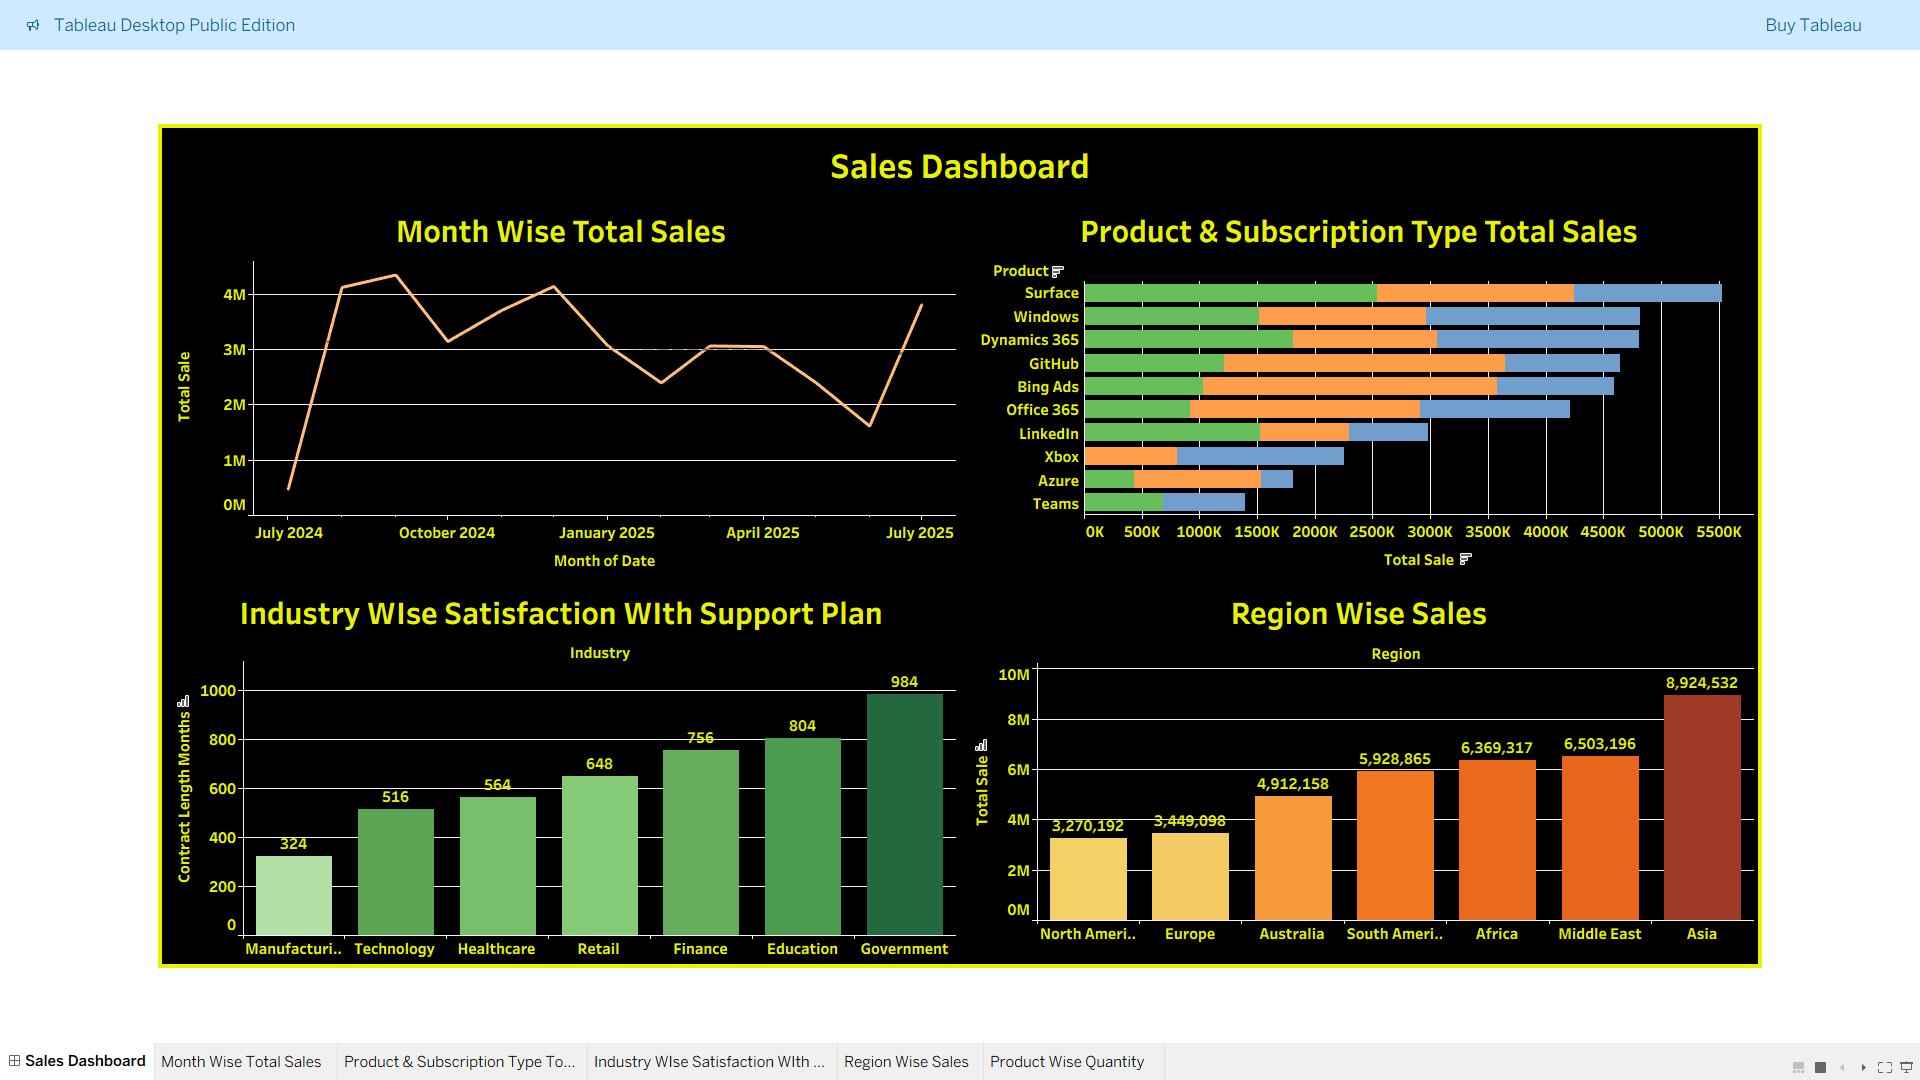

This screenshot's page, from the dashboard's own definition file:
{"tool":"tableau","page":{"name":"Sales Dashboard","canvas":[1000,1000],"units":"permille","ordinal":0},"visuals":[{"type":"text","box":[7.4,15,985.2,85.1]},{"type":"worksheet","title":"Month Wise Total Sales","mark":"Automatic","rows":["TotalSale"],"cols":["Date"],"box":[7.4,100,492.6,442.4]},{"type":"worksheet","title":"Product & Subscription Type Total Sales","mark":"Automatic","rows":["Product"],"cols":["TotalSale"],"box":[500,100,492.6,442.4]},{"type":"worksheet","title":"Industry WIse Satisfaction WIth Support Plan","mark":"Automatic","rows":["ContractLengthMonths"],"cols":["Industry"],"box":[7.4,542.5,492.6,442.6]},{"type":"worksheet","title":"Region Wise Sales","mark":"Automatic","rows":["TotalSale"],"cols":["Region"],"box":[500,542.5,492.6,442.6]}]}

Visuals, with their boxes on the dashboard's canvas, which has no fixed pixel size, in thousandths of its width and height (x1, y1, x2, y2). These are canvas units, not pixel positions in the 1920x1080 screenshot, which may show the page scaled, cropped or inside an application window:
text: (7, 15, 993, 100)
"Month Wise Total Sales" worksheet: (7, 100, 500, 542)
"Product & Subscription Type Total Sales" worksheet: (500, 100, 993, 542)
"Industry WIse Satisfaction WIth Support Plan" worksheet: (7, 542, 500, 985)
"Region Wise Sales" worksheet: (500, 542, 993, 985)
